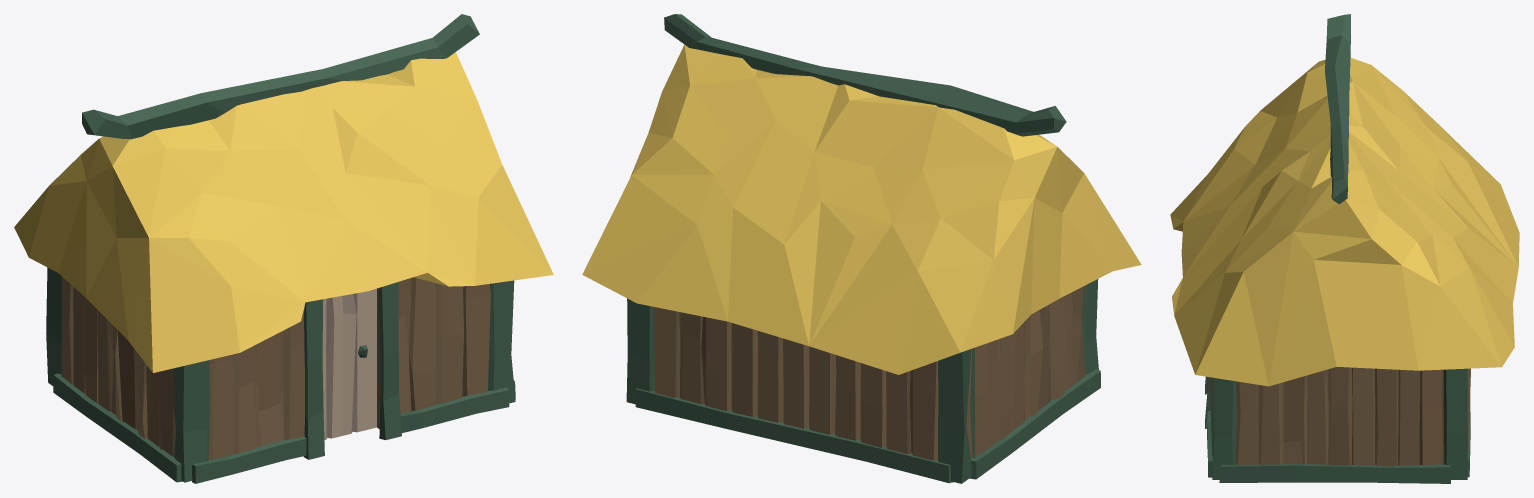
The model's file is cabbin_2.glb.
The picture shows the model from 3 angles, left to right: view 1: azimuth 30°, elevation 25°; view 2: azimuth 150°, elevation 25°; view 3: azimuth 270°, elevation 25°; orthographic projection. The views are drawn at different scales.
Parts seen in each view (by area): view 1: cabbin_2; view 2: cabbin_2; view 3: cabbin_2.
Part boxes in pixels (bbox=[...]): cabbin_2: bbox=[14, 14, 553, 483]; cabbin_2: bbox=[582, 14, 1141, 483]; cabbin_2: bbox=[1170, 14, 1519, 483].
Size of the model in its own units: 3.24 by 2.48 by 2.51.
1 material, 1 textured.
